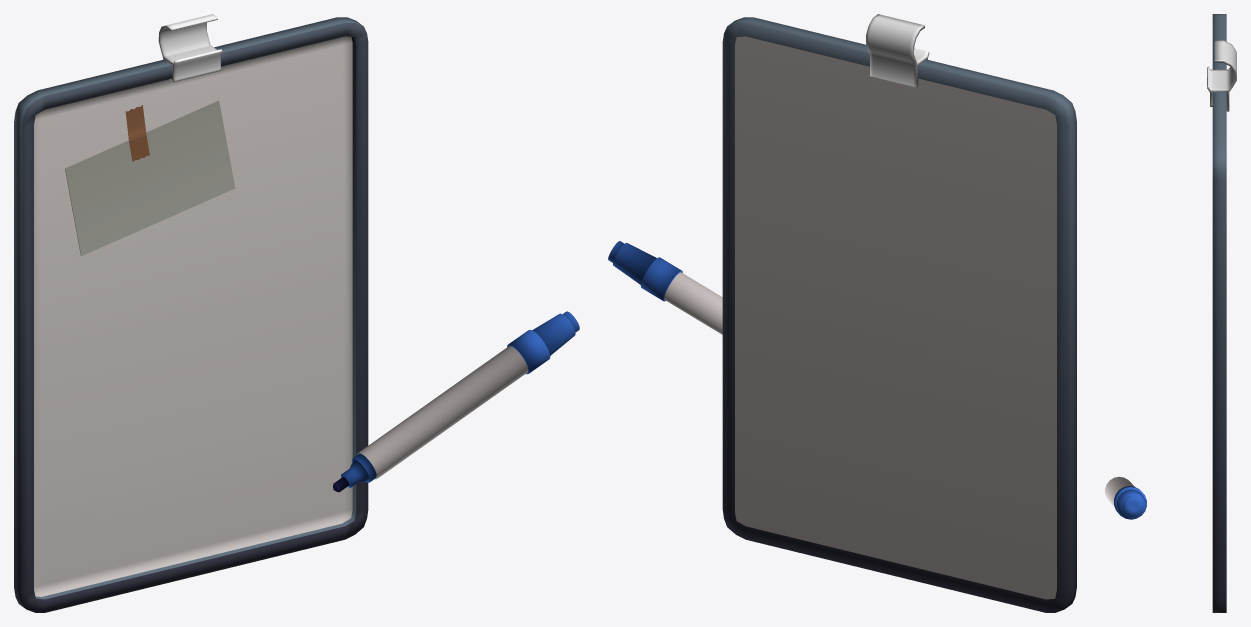
File: tussitaulu.fbx
3 renders of one model, left to right at view 1: azimuth 30°, elevation 25°; view 2: azimuth 150°, elevation 25°; view 3: azimuth 270°, elevation 25°, orthographic. The views are drawn at different scales.
Visible parts, largest first — view 1: taulu, tussi; view 2: taulu, tussi; view 3: taulu, tussi.
Part boxes in pixels (x1=…): taulu: x1=14, y1=14, x2=368, y2=612; tussi: x1=333, y1=311, x2=579, y2=492; taulu: x1=722, y1=14, x2=1076, y2=612; tussi: x1=608, y1=241, x2=722, y2=334; taulu: x1=1207, y1=14, x2=1236, y2=612; tussi: x1=1105, y1=476, x2=1146, y2=519.
Size of the model in its own units: 328 by 339 by 81.75.
1 material, 1 textured.
